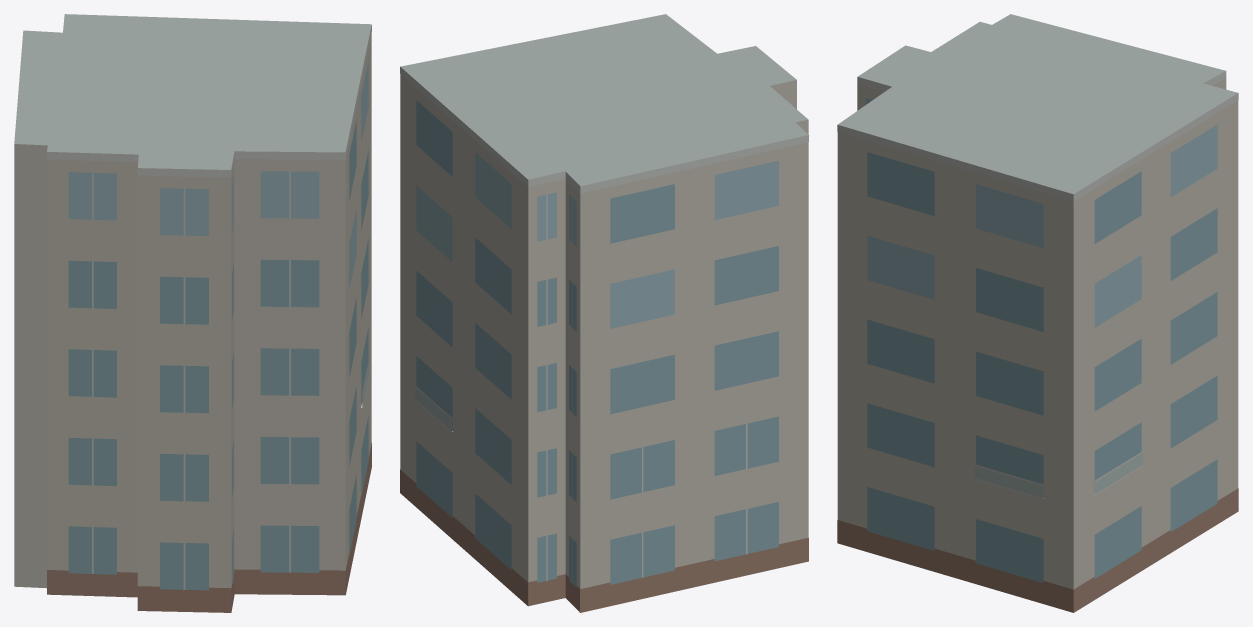
Rendered from survey-upis-32944154.glb.
3 views of the same model, side by side, from view 1: azimuth 30°, elevation 25°; view 2: azimuth 150°, elevation 25°; view 3: azimuth 270°, elevation 25° (orthographic). The views are drawn at different scales.
Visible parts, largest first — view 1: survey-upis-32944154.tmp; view 2: survey-upis-32944154.tmp; view 3: survey-upis-32944154.tmp.
Part boxes in pixels (x1,y1,x2,y2): survey-upis-32944154.tmp: [14, 14, 371, 612]; survey-upis-32944154.tmp: [400, 14, 808, 612]; survey-upis-32944154.tmp: [837, 14, 1238, 612].
Size of the model in its own units: 13.31 by 14.4 by 12.51.
